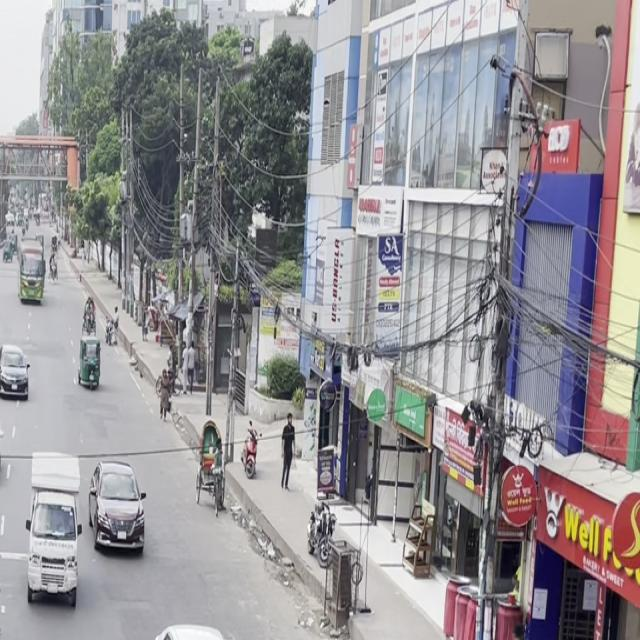car: (19, 456, 84, 616), (87, 447, 151, 566), (145, 613, 264, 640), (0, 336, 32, 408), (0, 392, 7, 492)
rickshaw: (75, 336, 104, 396)
